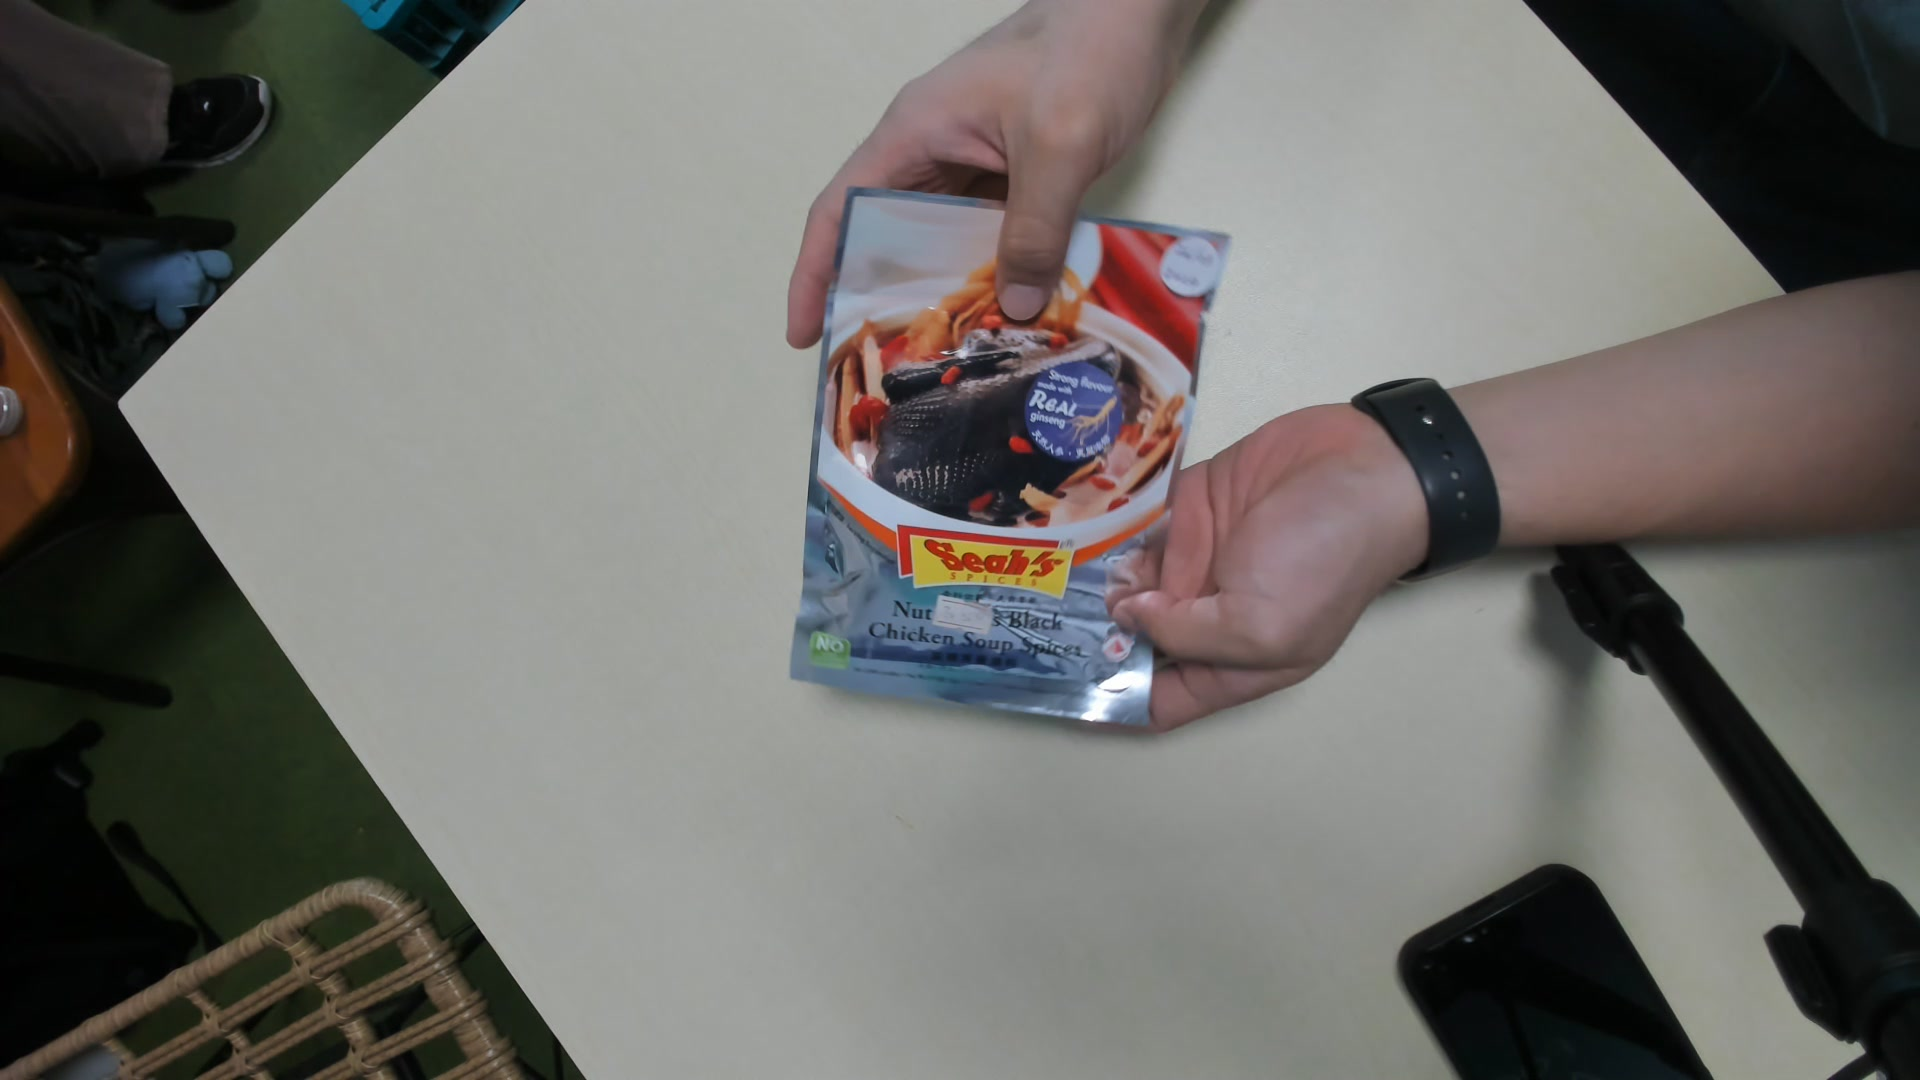OtherSauceDressing_0-99g_NonHalal_NonHealthy: (791, 189, 1226, 735)
